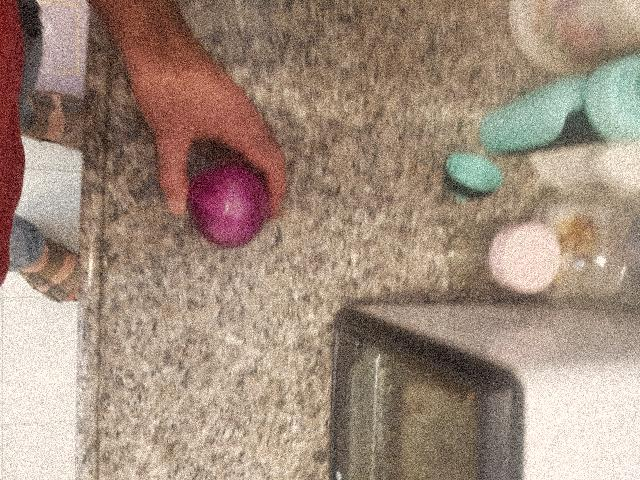onion: (323, 356, 408, 451)
